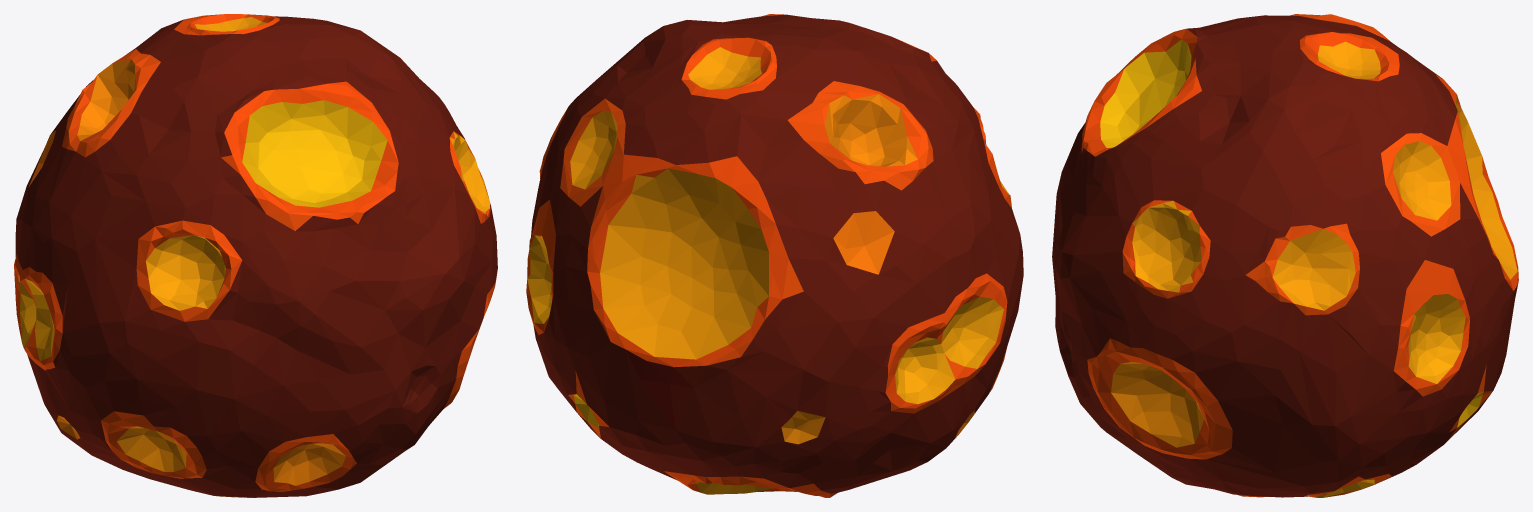
File: Asteroid.gltf
The picture shows the model from 3 angles, left to right: view 1: azimuth 30°, elevation 25°; view 2: azimuth 150°, elevation 25°; view 3: azimuth 270°, elevation 25°; orthographic projection.
Parts seen in each view (by area): view 1: Asteroid; view 2: Asteroid; view 3: Asteroid.
Part boxes in pixels (x1,y1,x2,y2): Asteroid: [14, 14, 497, 497]; Asteroid: [526, 14, 1023, 497]; Asteroid: [1052, 14, 1518, 497].
Size of the model in its own units: 9.58 by 9.42 by 9.12.
1 material, 1 textured.
